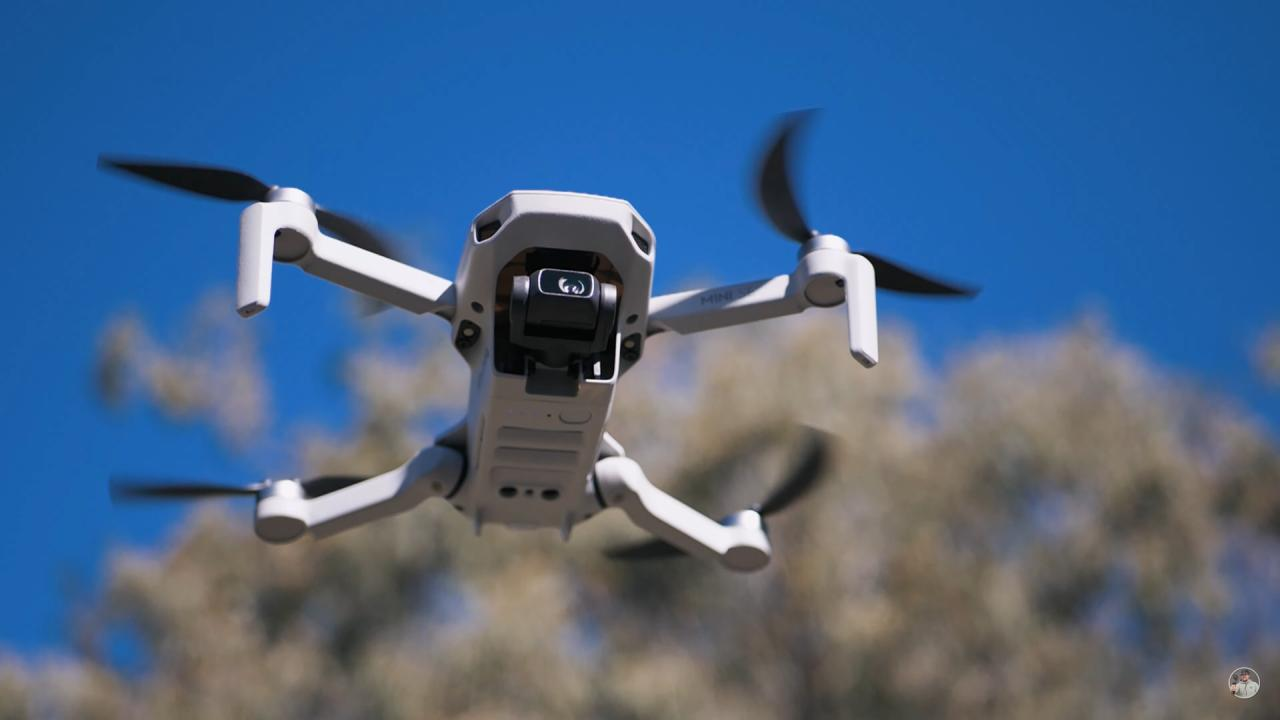Drone: (87, 98, 995, 586)
